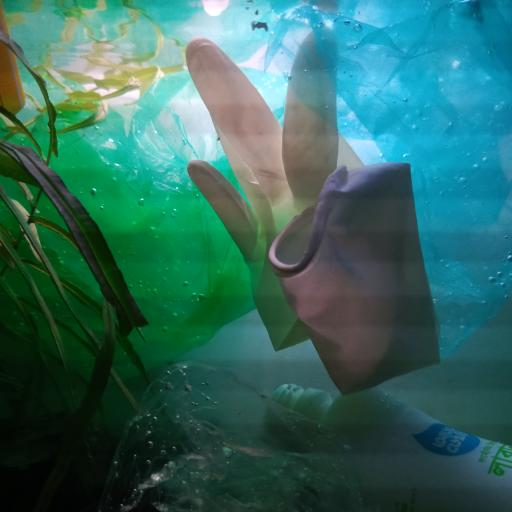glove: (185, 0, 441, 394)
plastic_bag: (124, 0, 512, 363), (0, 106, 258, 422), (94, 360, 370, 512)
plastic_bottle: (270, 381, 512, 512)
plastic_straw: (0, 3, 27, 113)
